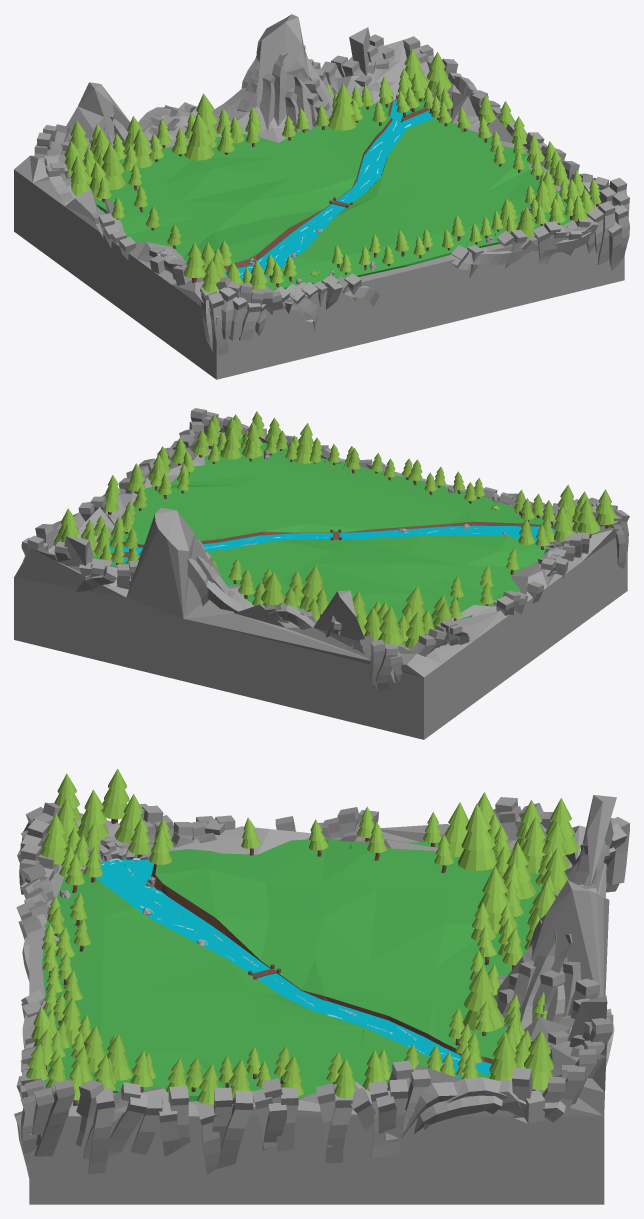
Rendered from Background.fbx.
The picture shows the model from 3 angles, top to bottom: view 1: azimuth 30°, elevation 25°; view 2: azimuth 150°, elevation 25°; view 3: azimuth 270°, elevation 25°; orthographic projection. The views are drawn at different scales.
Parts seen in each view (by area): view 1: Node; view 2: Node; view 3: Node.
Part boxes in pixels (x1=…): Node: x1=14, y1=14, x2=629, y2=379; Node: x1=14, y1=408, x2=629, y2=739; Node: x1=14, y1=769, x2=629, y2=1204.
Bounding box in the file's own units: 480 × 168 × 424.
